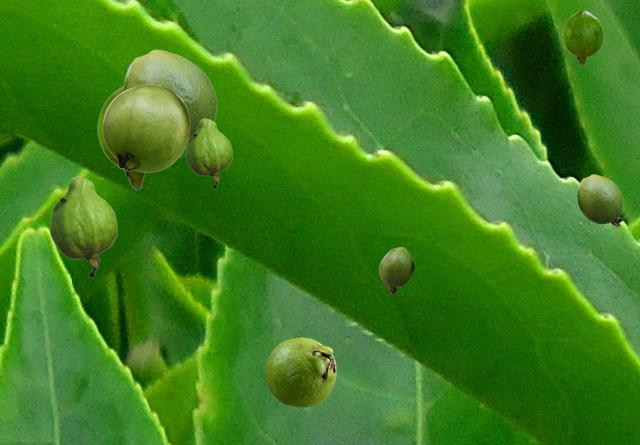guava: (123, 49, 217, 134), (102, 84, 189, 171), (49, 176, 116, 276), (97, 86, 148, 189), (265, 337, 335, 406), (185, 118, 231, 187), (577, 174, 625, 225), (562, 10, 602, 65), (379, 247, 413, 293)
